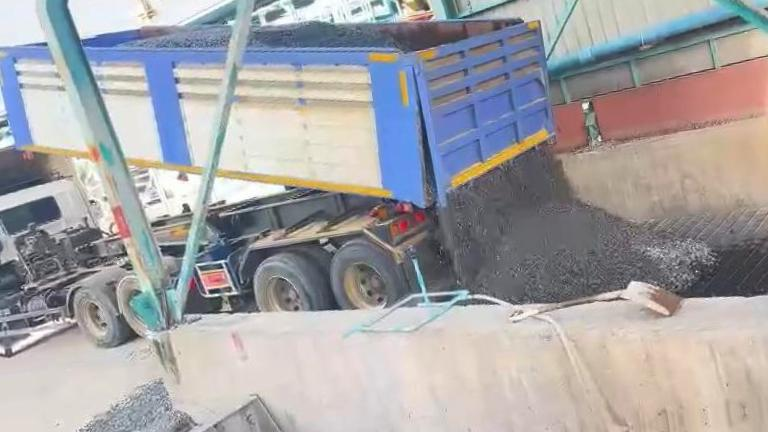gravel: (441, 146, 716, 302), (32, 381, 192, 432), (248, 20, 410, 51), (121, 26, 232, 49)
